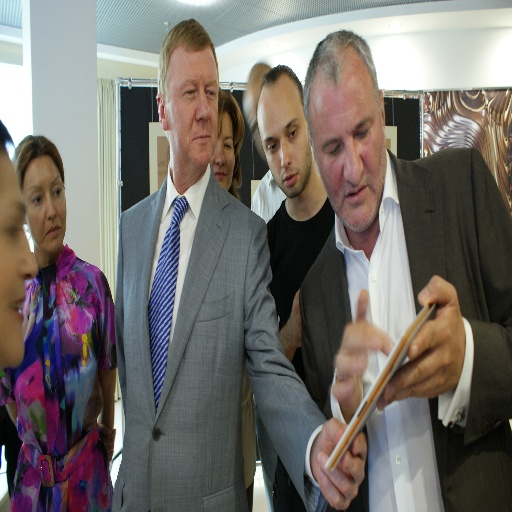hand: (401, 260, 471, 403), (327, 284, 394, 404), (308, 412, 366, 511), (98, 421, 115, 462), (291, 288, 300, 348)
